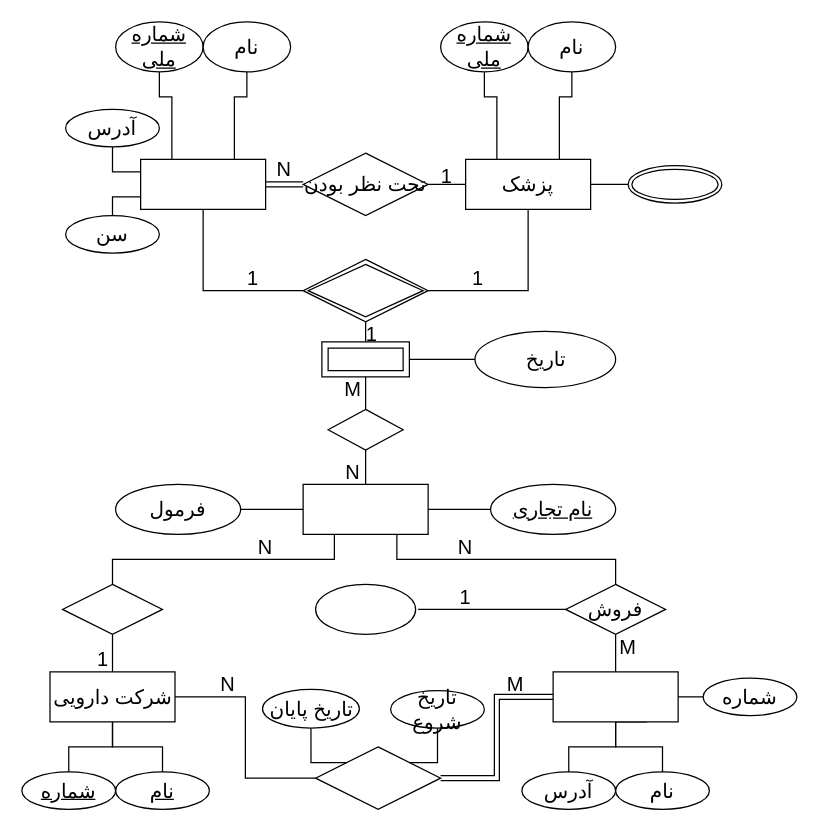
The diagram is 819 pixels wide and 831 high, and some of its shapes have lost their labels. The shapes that lost their labels are listed below. From the top down, each one's centre as x and y in pixels, then its label:
point (202, 183): بیمار
point (674, 183): تخصص
point (365, 290): تجویز
point (365, 359): نسخه
point (365, 429): دارد
point (365, 508): دارو
point (111, 608): تولید
point (365, 608): قیمت
point (615, 696): داروخانه
point (377, 777): قرار داد
